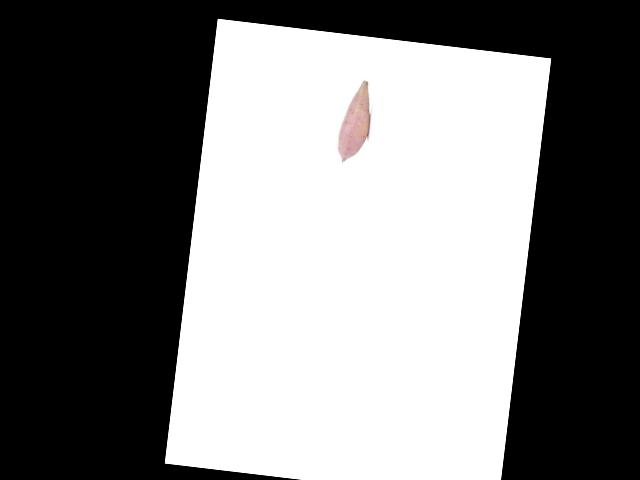sweet_potato: (335, 78, 372, 165)
